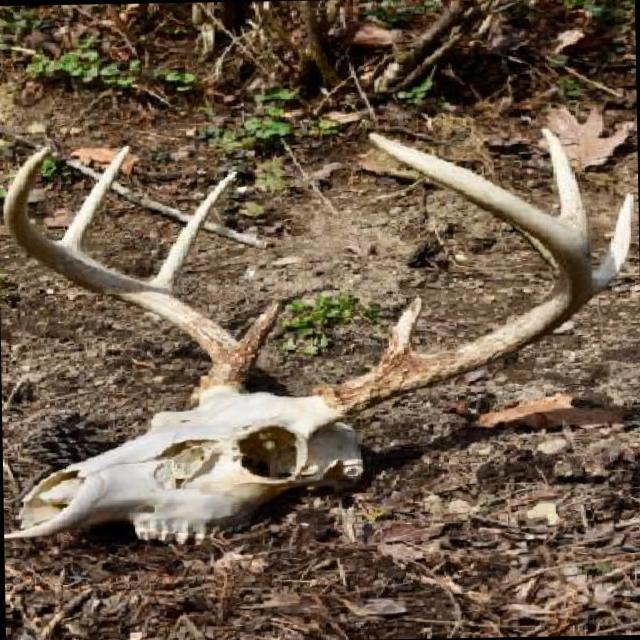L-F: (312, 131, 593, 416)
L-G1: (378, 295, 423, 364)
L-G2: (591, 192, 633, 295)
L-G3: (541, 127, 589, 240)
R-F: (3, 145, 258, 396)
R-G1: (237, 301, 281, 360)
R-G2: (146, 171, 239, 293)
R-G3: (58, 145, 130, 250)
